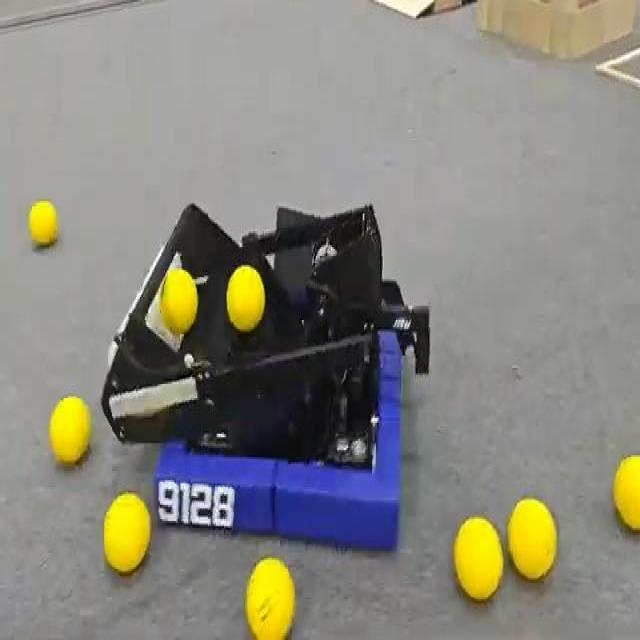Fuel: (453, 515, 503, 601), (507, 498, 556, 580), (245, 556, 294, 638), (508, 498, 556, 580), (245, 558, 294, 638), (103, 492, 150, 572), (48, 395, 90, 464), (49, 397, 90, 462), (226, 265, 265, 331), (159, 268, 198, 334), (612, 455, 639, 530), (28, 201, 57, 245)
